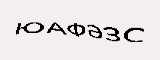А: (46, 19, 65, 36)
З: (104, 24, 123, 42)
С: (125, 22, 144, 47)
Ф: (65, 19, 88, 37)
Ю: (14, 17, 42, 36)
Ә: (87, 17, 102, 42)
